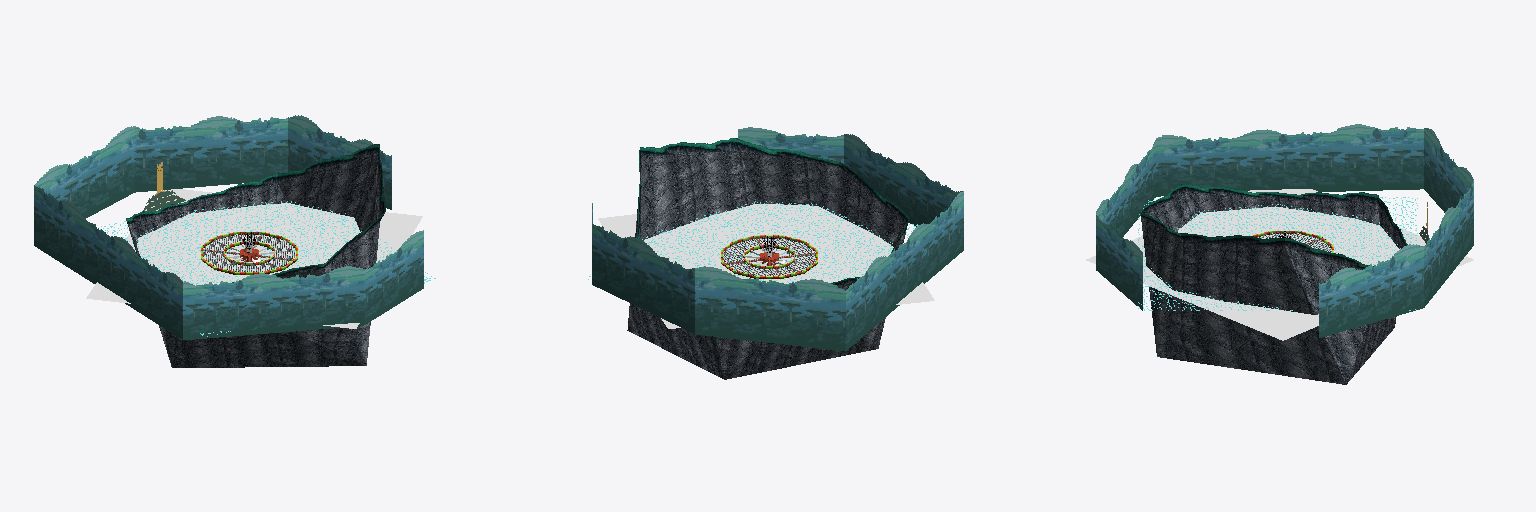
3 views of the same model, side by side, from view 1: azimuth 30°, elevation 25°; view 2: azimuth 150°, elevation 25°; view 3: azimuth 270°, elevation 25° (orthographic).
Parts seen in each view (by area): view 1: polygon18, polygon0, polygon15, polygon17, polygon16, polygon11, polygon5; view 2: polygon18, polygon0, polygon15, polygon17, polygon16, polygon11, polygon5; view 3: polygon18, polygon0, polygon15, polygon17, polygon16.
Boxes of the visible parts, box(x1,y1,x2,y2) form: polygon18: box(34, 115, 423, 339); polygon0: box(129, 155, 379, 367); polygon15: box(86, 189, 422, 328); polygon17: box(126, 144, 385, 282); polygon16: box(100, 201, 435, 336); polygon11: box(201, 232, 297, 274); polygon5: box(203, 233, 295, 271); polygon18: box(592, 127, 963, 351); polygon0: box(627, 152, 906, 379); polygon15: box(598, 204, 934, 328); polygon17: box(638, 138, 909, 286); polygon16: box(588, 201, 917, 282); polygon11: box(721, 235, 817, 278); polygon5: box(723, 237, 815, 275); polygon18: box(1096, 124, 1473, 337); polygon0: box(1141, 193, 1403, 384); polygon15: box(1086, 189, 1473, 340); polygon17: box(1141, 184, 1407, 269); polygon16: box(1138, 197, 1417, 310).
Bounding box in the file's own units: 998 × 466 × 998.
23 materials, 19 textured.